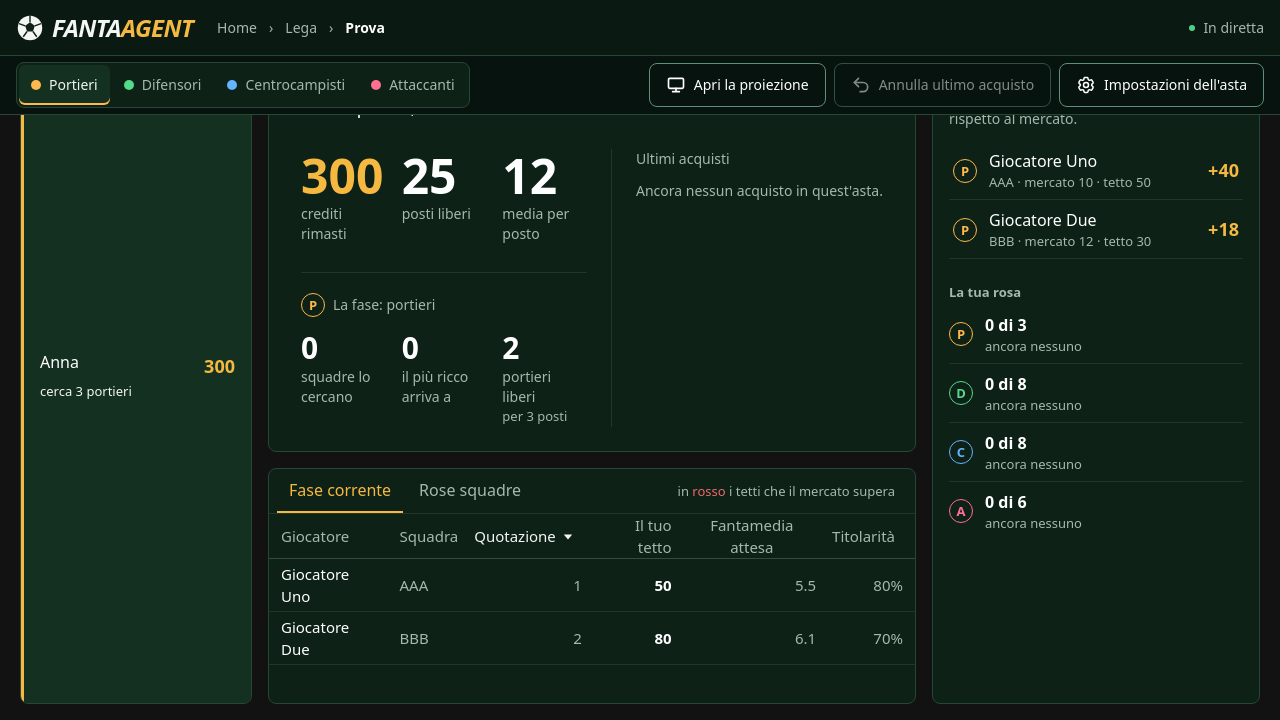
it: AuctionRoute › chiudere il conto alla rovescia torna al pannello di aggiudicazione diretta
The image size is (1280, 720).
(page scrolled)
Click the button with aria-label "Valuta Giocatore Uno".
click(328, 585)  # box [269, 559, 388, 611]
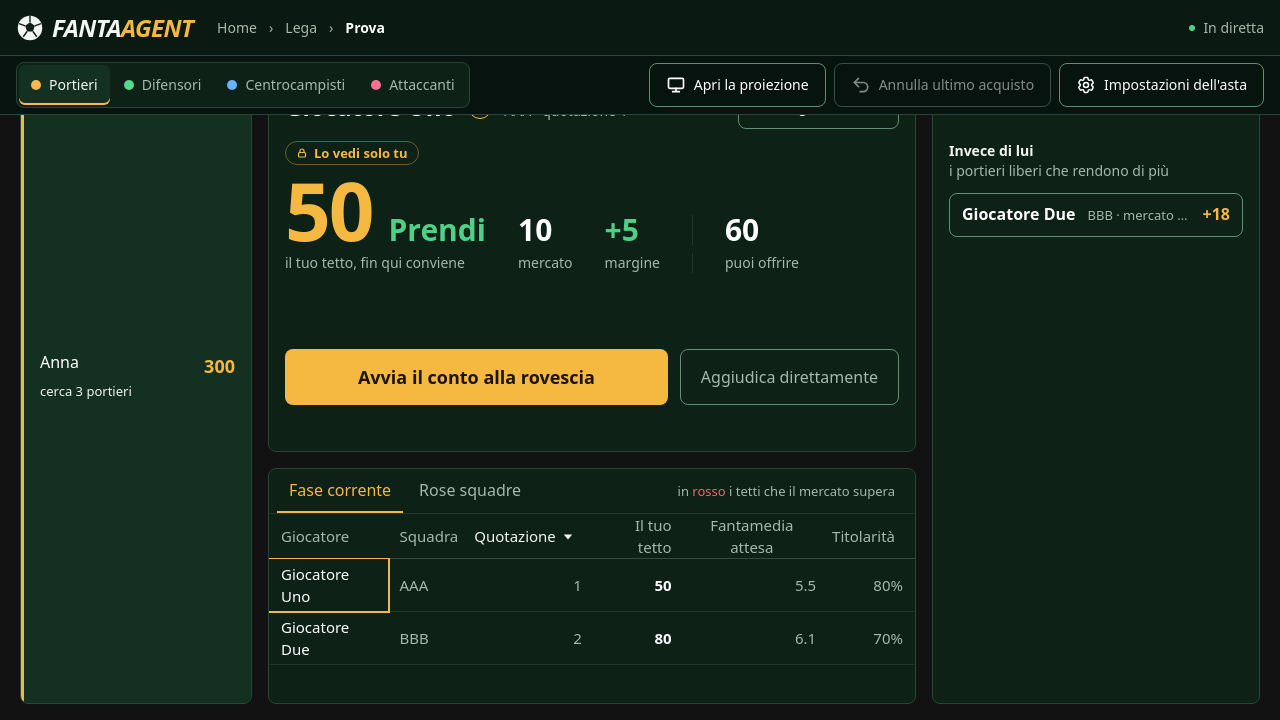
Check: the button "Avvia il conto alla rovescia" is enabled
Click the button "Avvia il conto alla rovescia".
click(476, 377)  # box [285, 349, 668, 405]
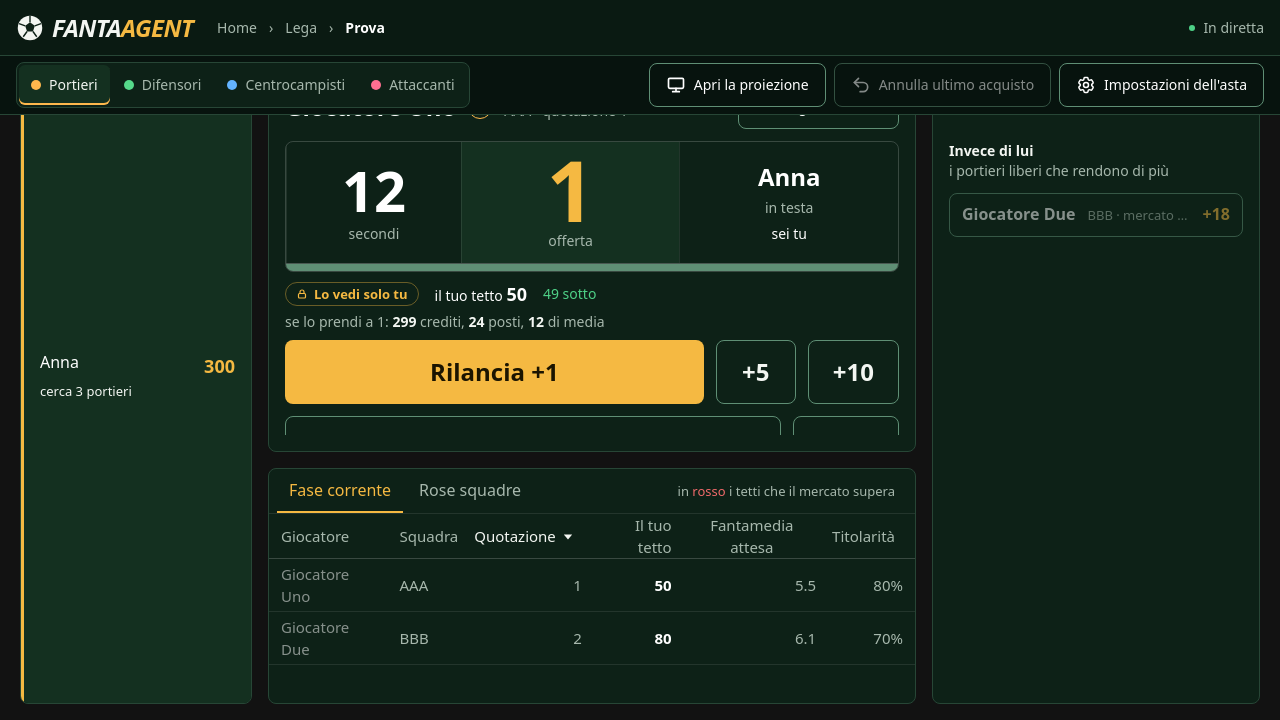
Check: the element with test id "bidder-dialog" is shown, box [285, 141, 899, 435]
Press Escape
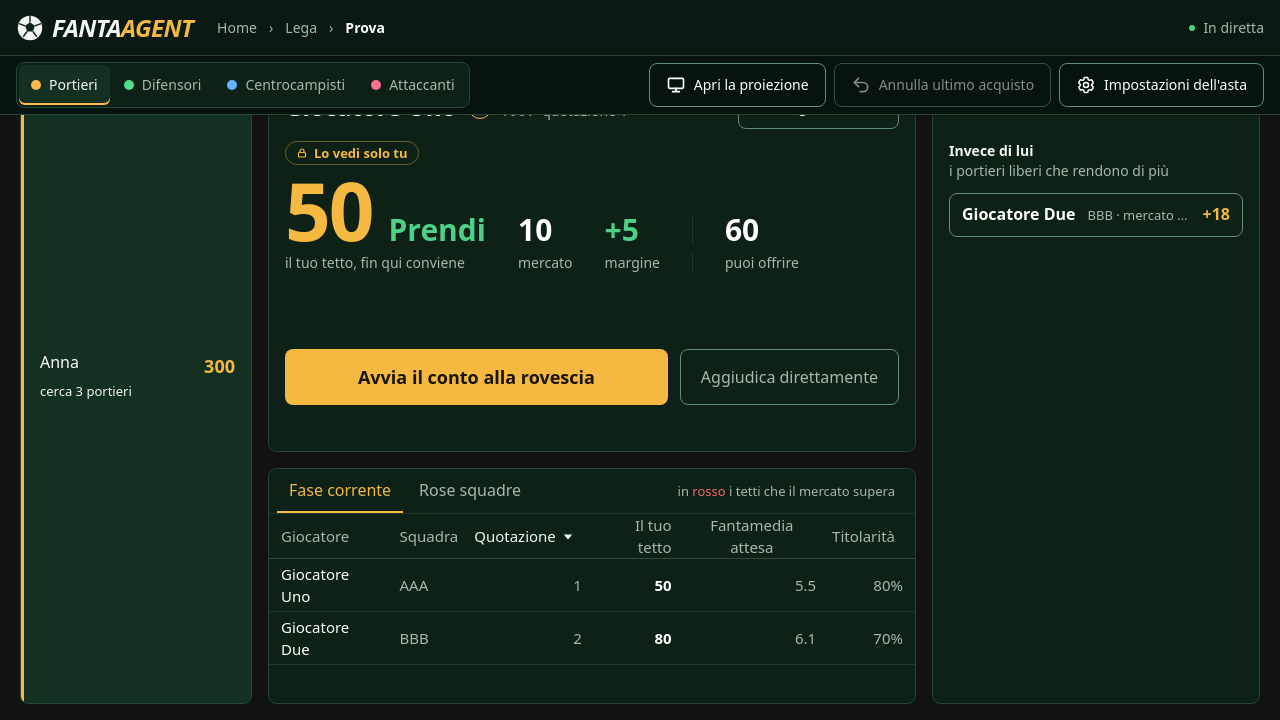
Check: the element with test id "bidder-dialog" is gone
Check: the button "Aggiudica direttamente" is shown, box [680, 349, 899, 405]
